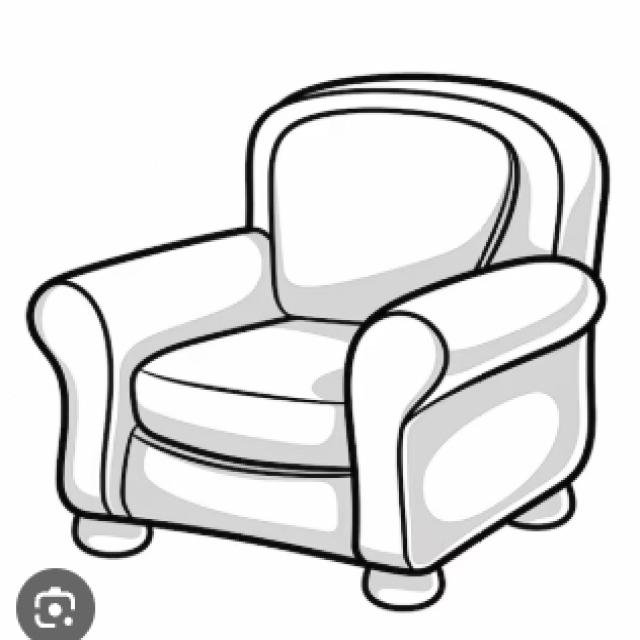Backrest: (246, 72, 612, 322)
Leg_Structure: (71, 480, 576, 611)
Seat: (121, 315, 367, 564)
sofa_armrest: (344, 254, 606, 572), (25, 226, 283, 522)
